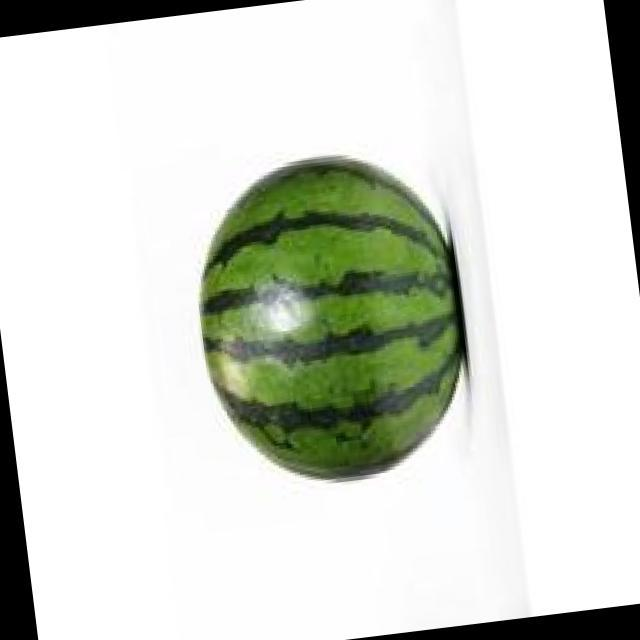watermelon: (200, 158, 465, 476)
